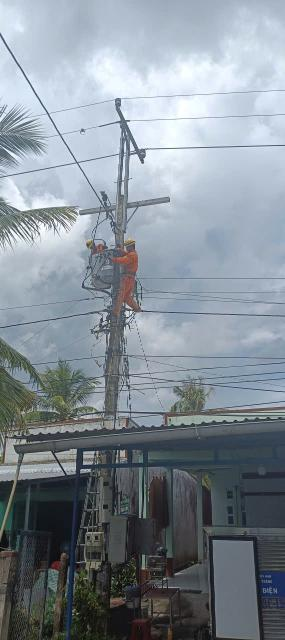harness: (119, 268, 141, 280)
helmet: (84, 235, 99, 252), (121, 238, 137, 250)
